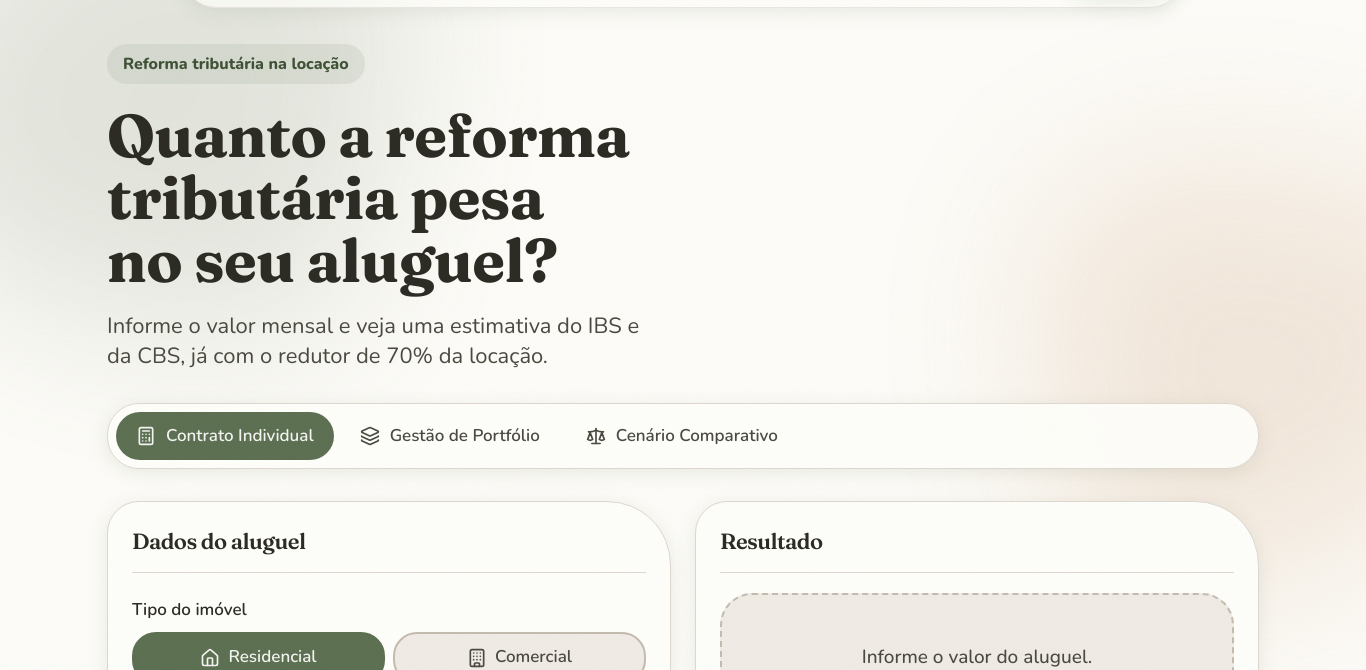
Test: Interface pública (locador assistido) › cadastra ativo com múltiplas unidades
Click the tab "Gestão de Portfólio" at point(450, 436), box top-left (340, 412), bottom-right (560, 460)
(page scrolled)
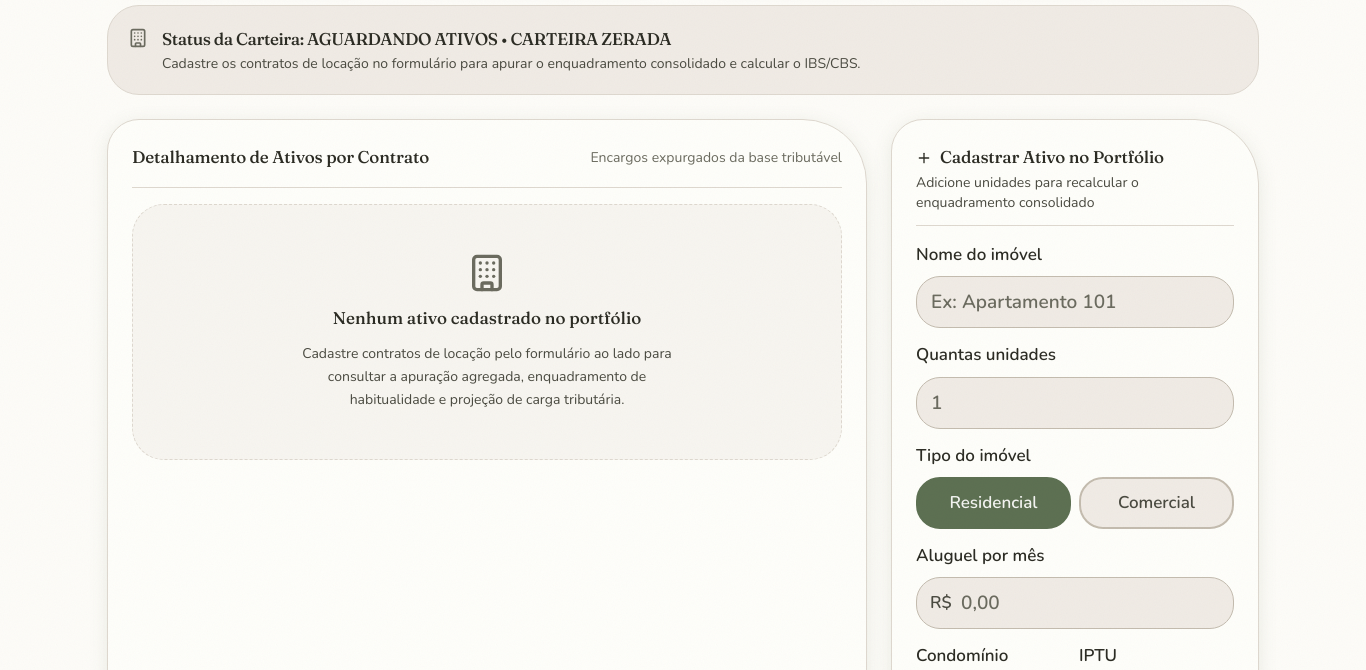
Type "Residencial Flores" into the field labelled "Nome do imóvel" at point(1075, 302), box top-left (916, 276), bottom-right (1234, 328)
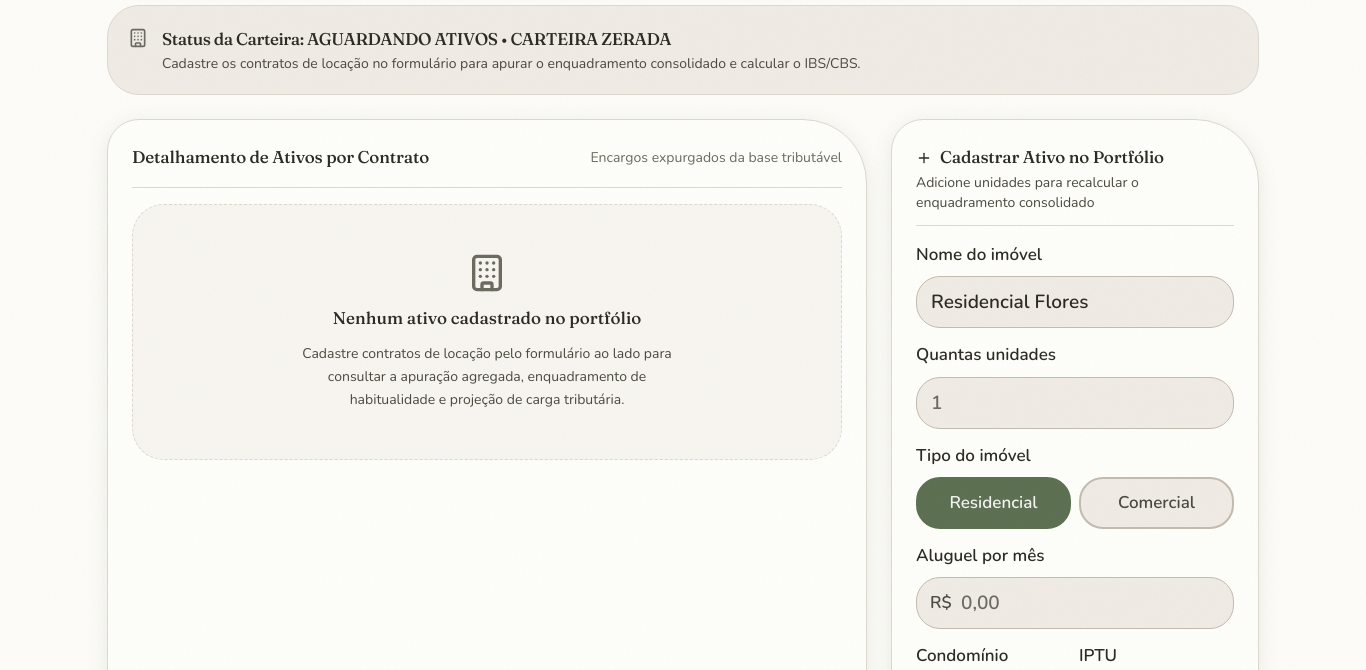
Type "6" into the number field labelled "Quantas unidades" at point(1075, 403), box top-left (916, 377), bottom-right (1234, 429)
(page scrolled)
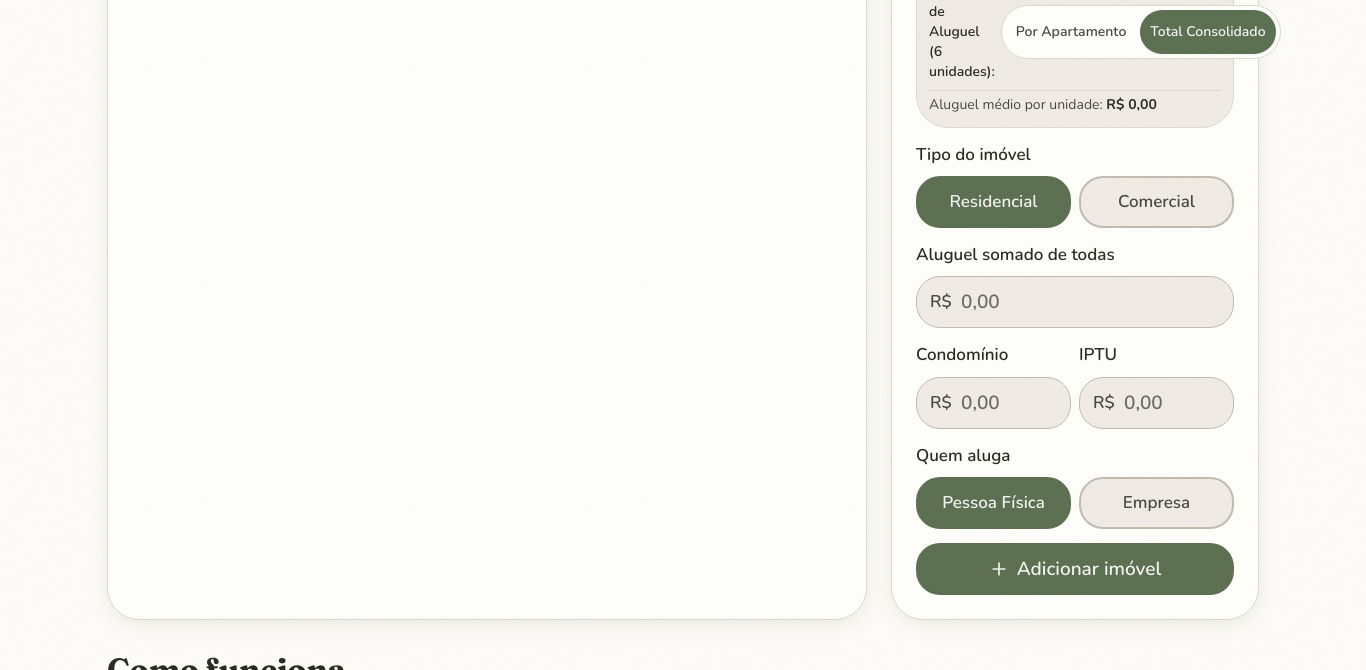
Type "600000" into the field labelled "Aluguel somado de todas" at point(1075, 302), box top-left (916, 276), bottom-right (1234, 328)
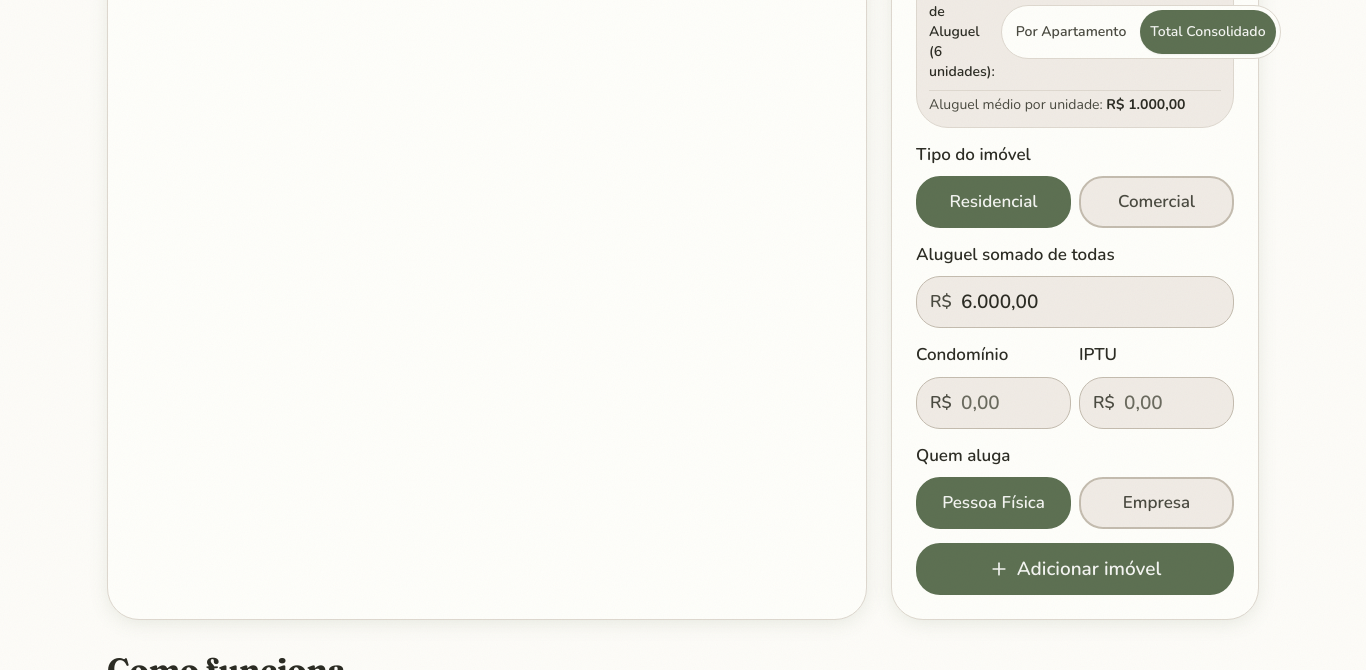
Click the button "Adicionar imóvel" at point(1075, 569), box top-left (916, 543), bottom-right (1234, 595)
(page scrolled)
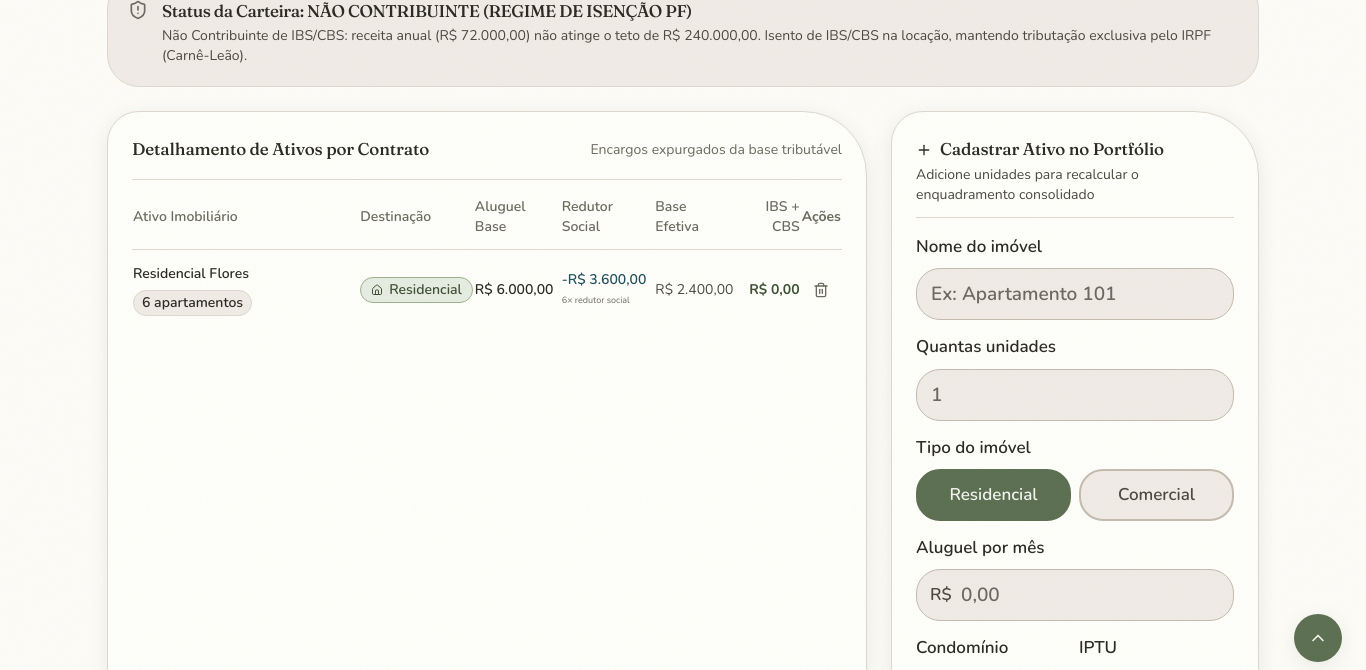
Now the text "Residencial Flores" is shown, box top-left (133, 264), bottom-right (249, 284)
Now the text "6 apartamentos" is shown, box top-left (133, 290), bottom-right (252, 316)
